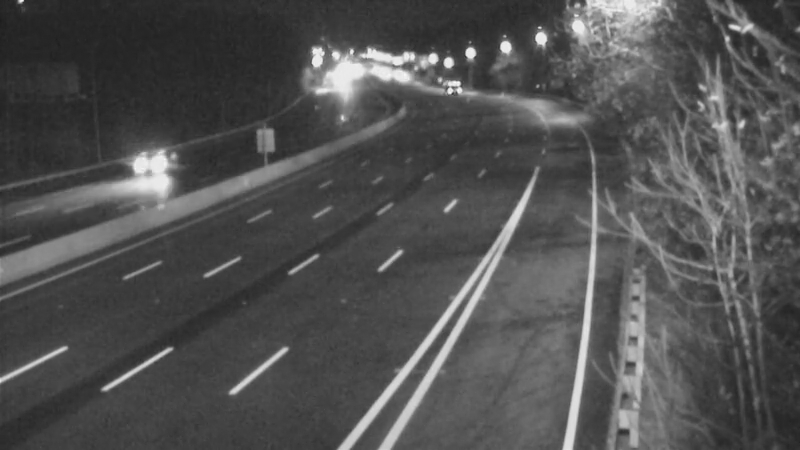vehicle: (107, 124, 187, 204), (427, 59, 477, 109)
